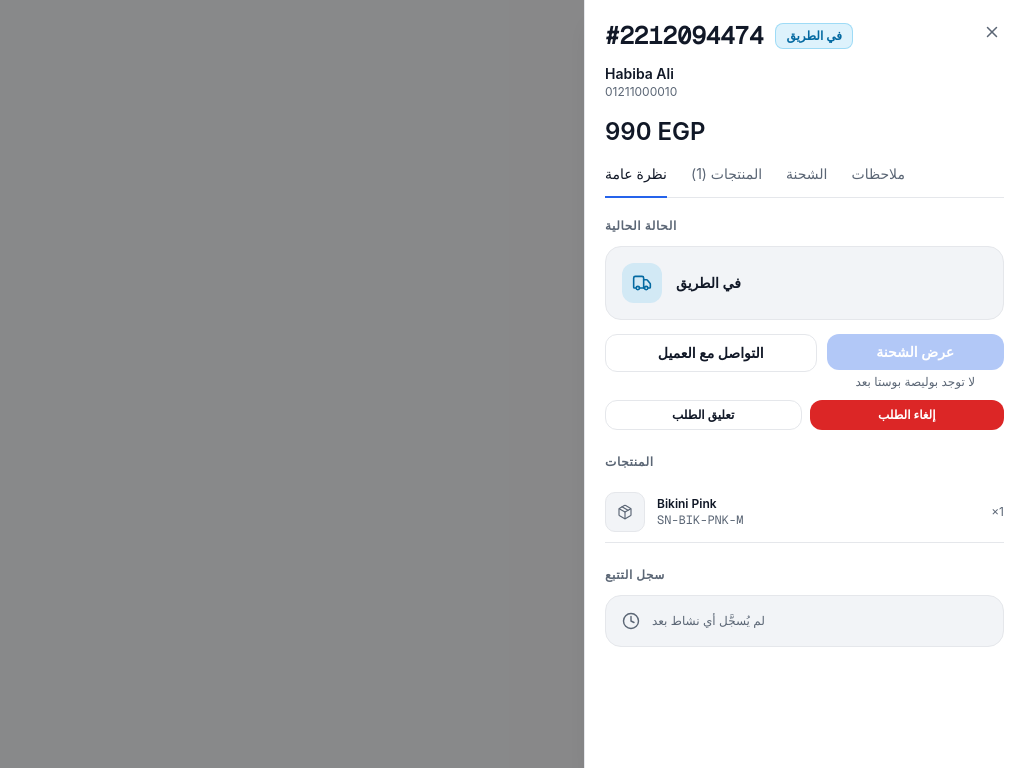
Notes tab renders correctly in ar/RTL — labels, empty state, and add flow all resolve
Expected: the heading "#2212094474" is shown, [605,20,763,52]
Click the button "ملاحظات": (878,181) [852,164,905,198]
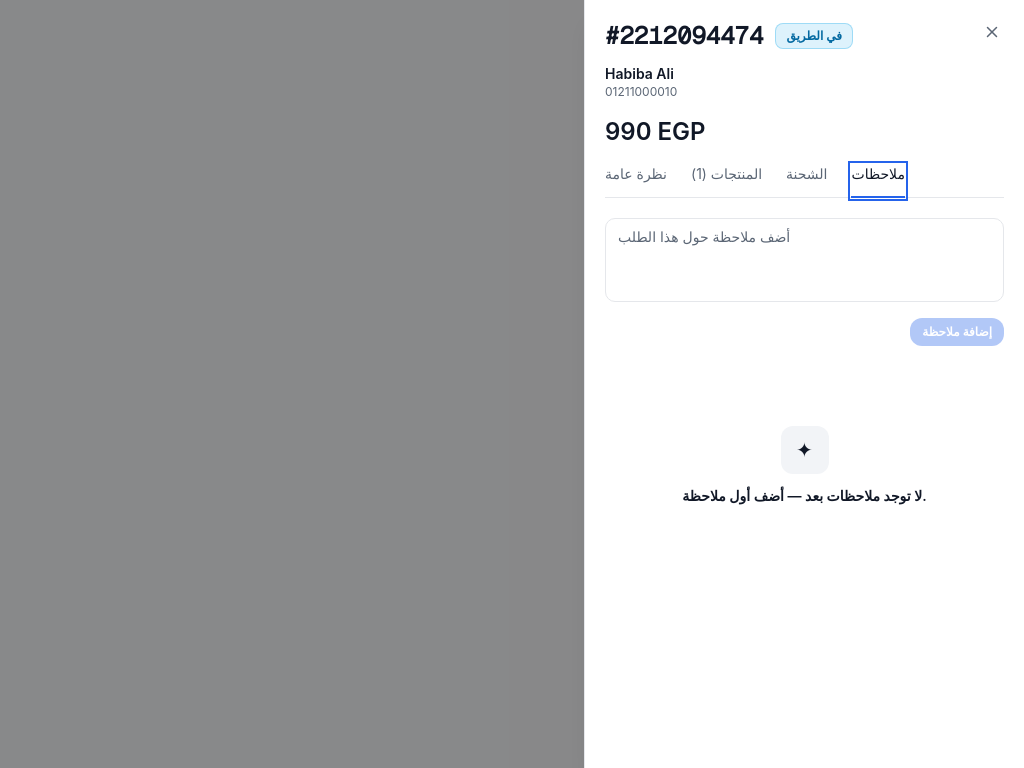
Result: the text "لا توجد ملاحظات بعد — أضف أول ملاحظة." is shown at [682,486,927,506]
In the text box with placeholder "أضف ملاحظة حول هذا الطلب": (804,260) [605,218,1004,302], type "تم التواصل مع العميل"
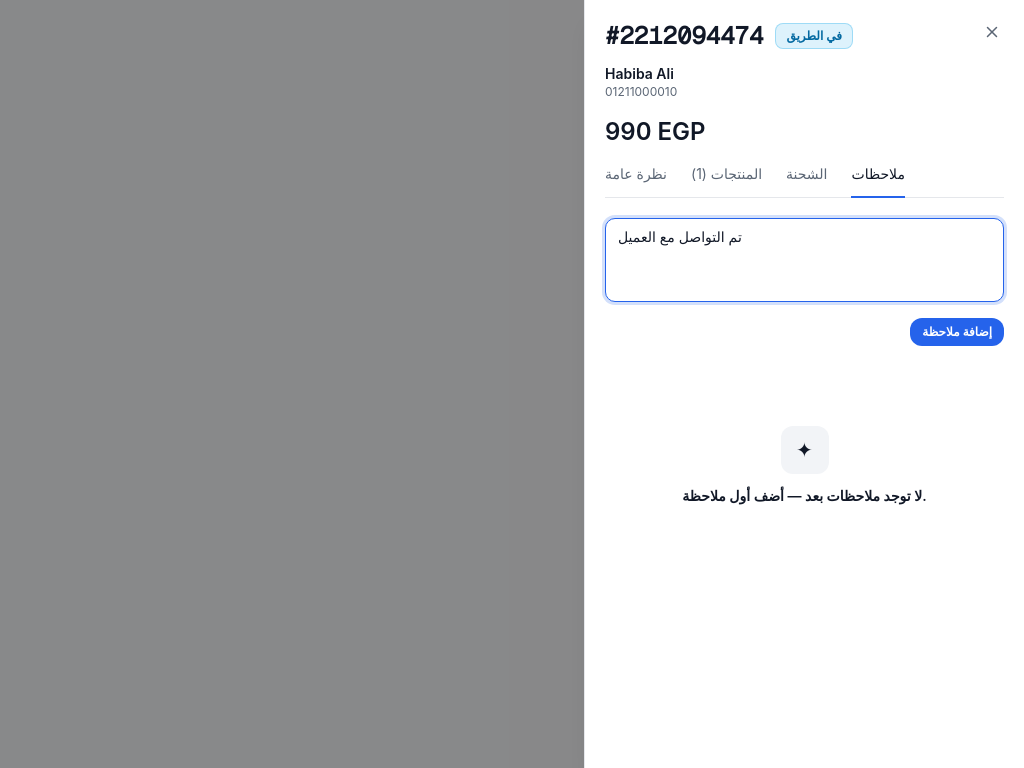
Click the button "إضافة ملاحظة": (957,332) [910,318,1004,346]
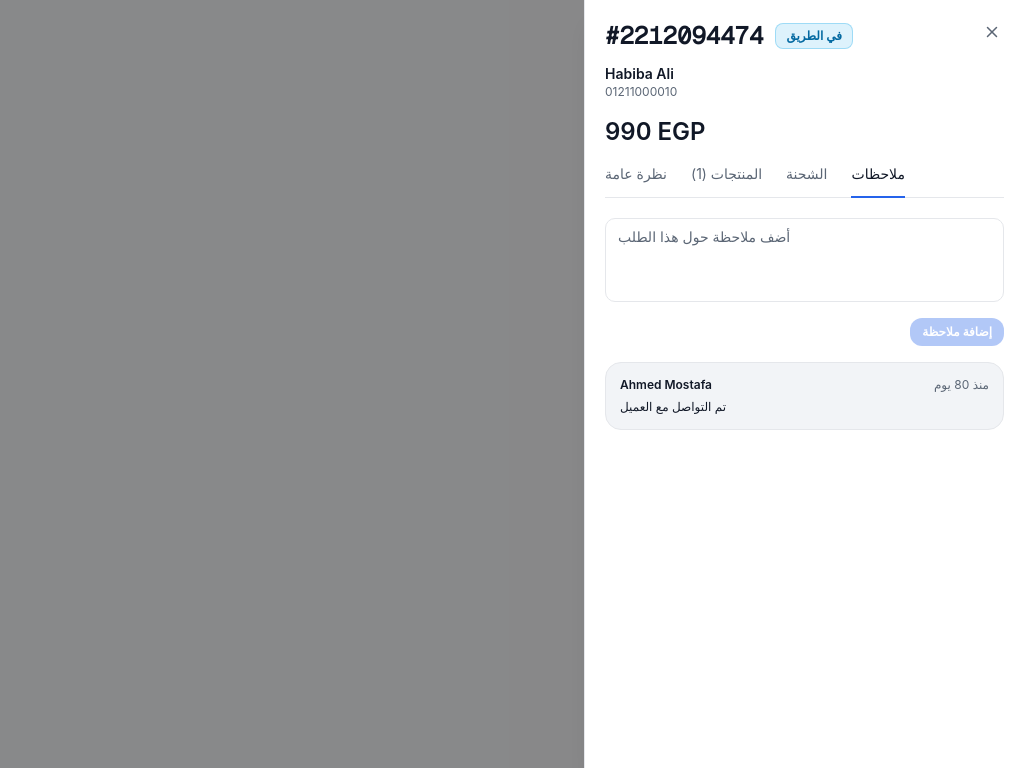
Result: the text "تم التواصل مع العميل" is shown at [620,399,726,414]
